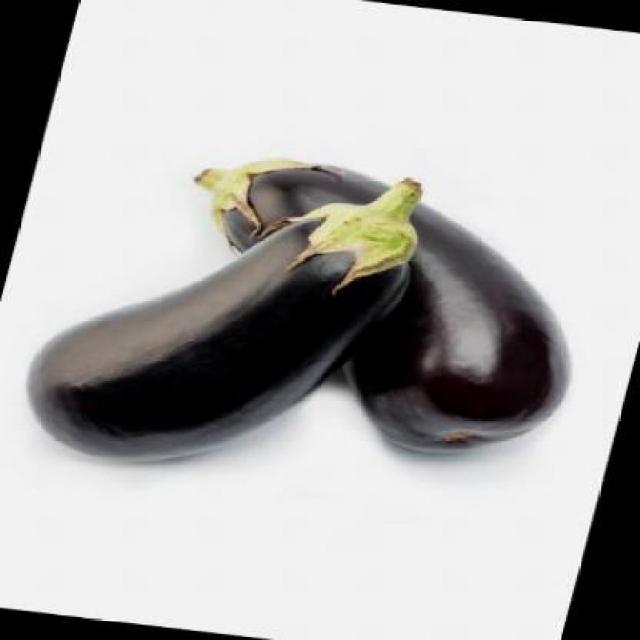eggplant: (133, 148, 618, 466), (8, 139, 440, 490)
